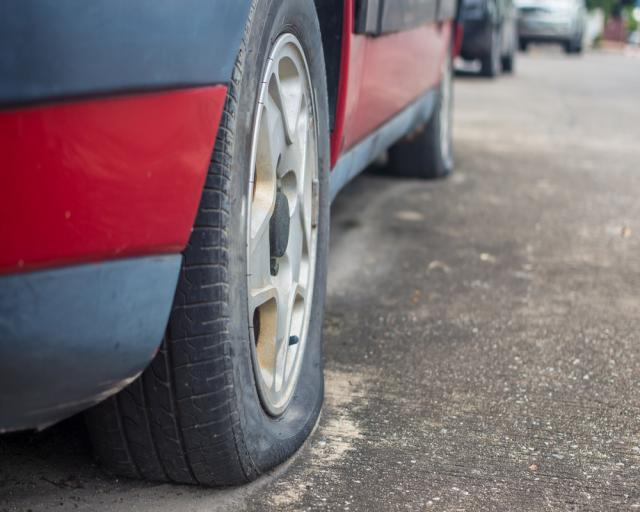tire flat: (91, 0, 331, 486)
